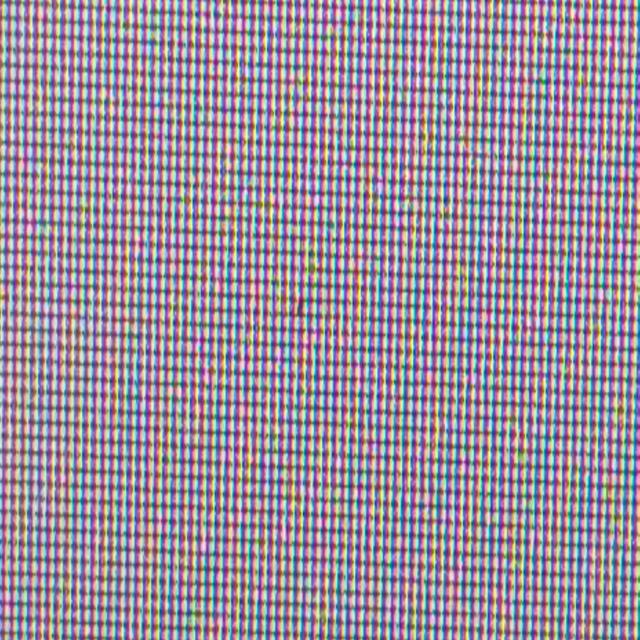Dead pixel: (298, 297, 304, 318)
